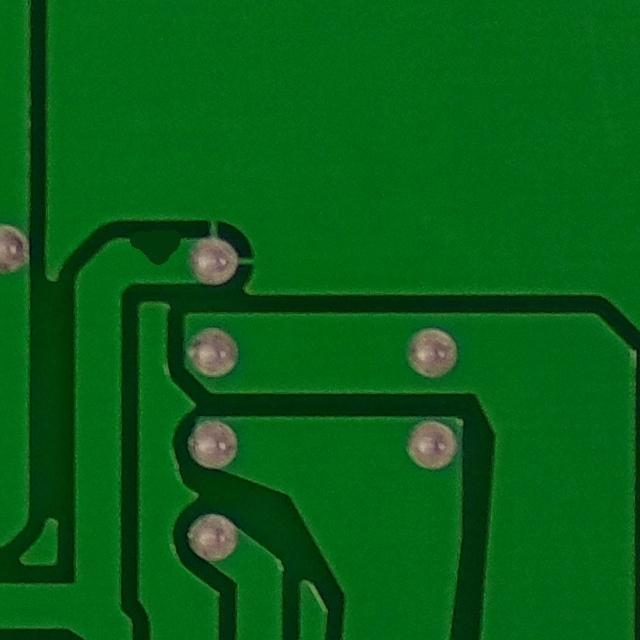mouse_bite: (113, 211, 193, 281)
